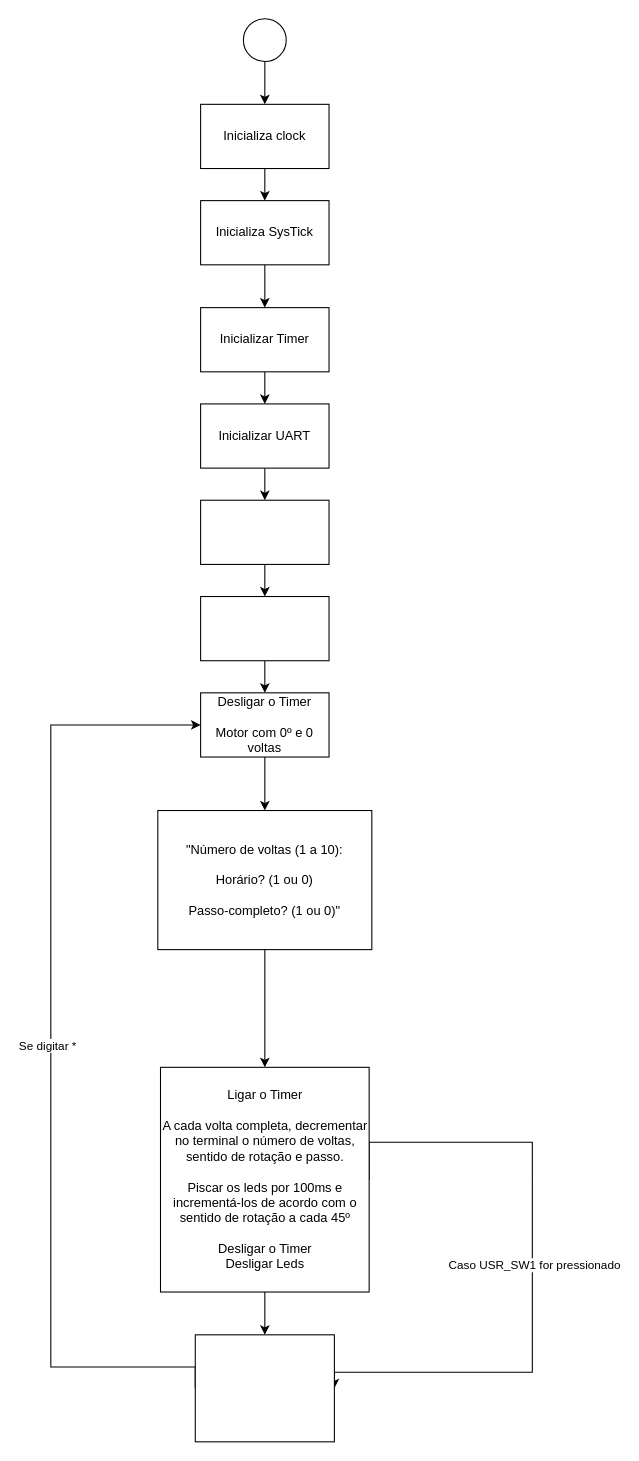
The diagram is 639 pixels wide and 1461 high, and some of its shapes have lost their labels. Each missing label, with the centre of its shape:
Após terminar, escrever "FIM" Desligar o Timer Desligar Leds: point (264, 1388)
Inicializar GPIO: point (264, 531)
Inicializar interrupção: point (264, 628)
